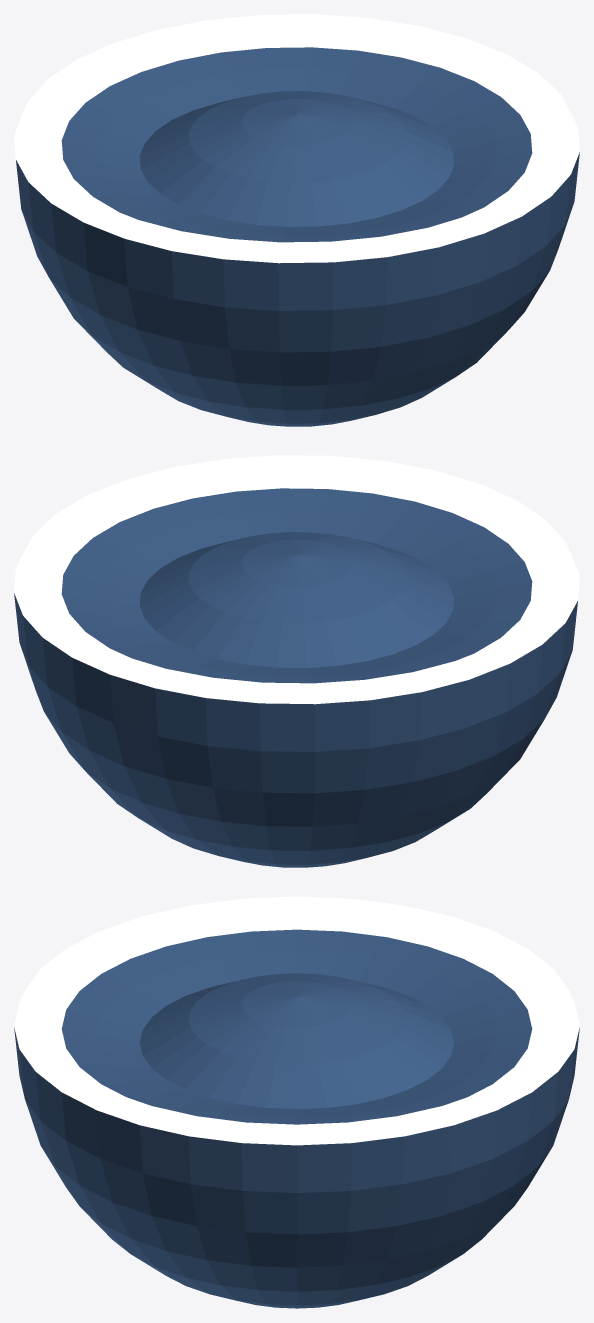
File: Orbit7.glb
3 renders of one model, top to bottom at view 1: azimuth 30°, elevation 25°; view 2: azimuth 150°, elevation 25°; view 3: azimuth 270°, elevation 25°, orthographic.
Parts seen in each view (by area): view 1: Orbit; view 2: Orbit; view 3: Orbit.
Boxes of the visible parts, box(x1,y1,x2,y2) form: Orbit: box(14, 14, 579, 426); Orbit: box(14, 455, 579, 867); Orbit: box(14, 896, 579, 1308).
Size of the model in its own units: 2 by 1.11 by 2.
